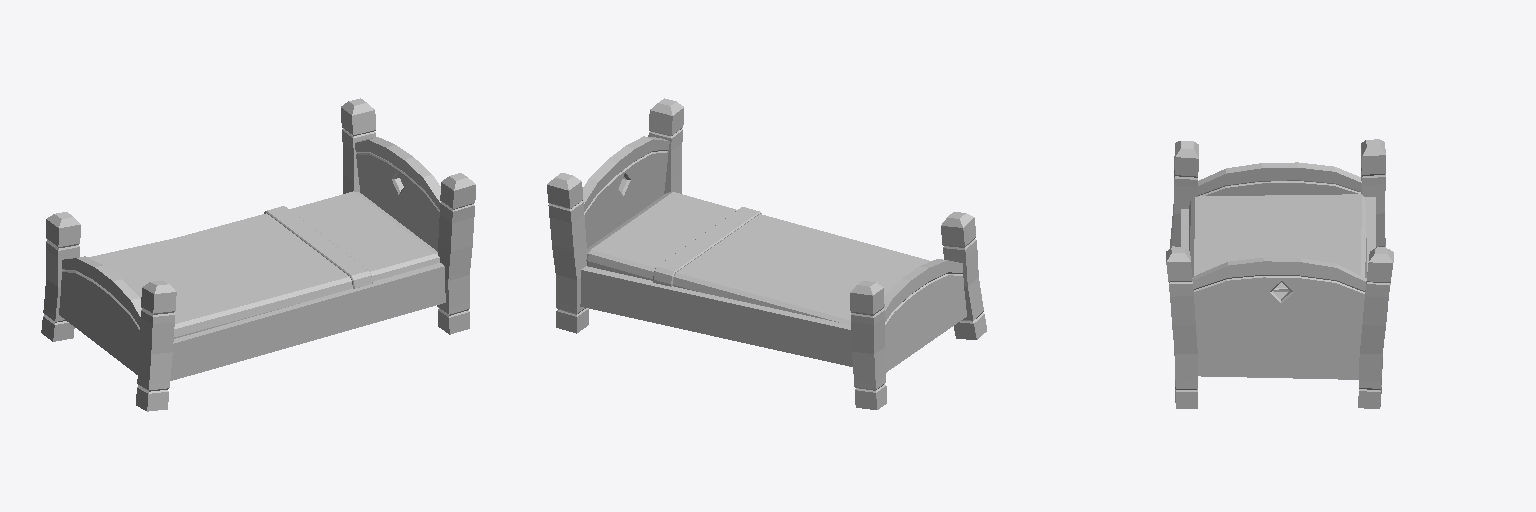
Rendered from bed_lp.obj.
3 renders of one model, left to right at view 1: azimuth 30°, elevation 25°; view 2: azimuth 150°, elevation 25°; view 3: azimuth 270°, elevation 25°, orthographic.
Visible parts, largest first — view 1: bed_lp; view 2: bed_lp; view 3: bed_lp.
Boxes of the visible parts, <box> form: bed_lp: <box>41,98,475,411</box>; bed_lp: <box>547,98,986,409</box>; bed_lp: <box>1166,139,1393,408</box>.
Size of the model in its own units: 3.77 by 1.74 by 2.27.